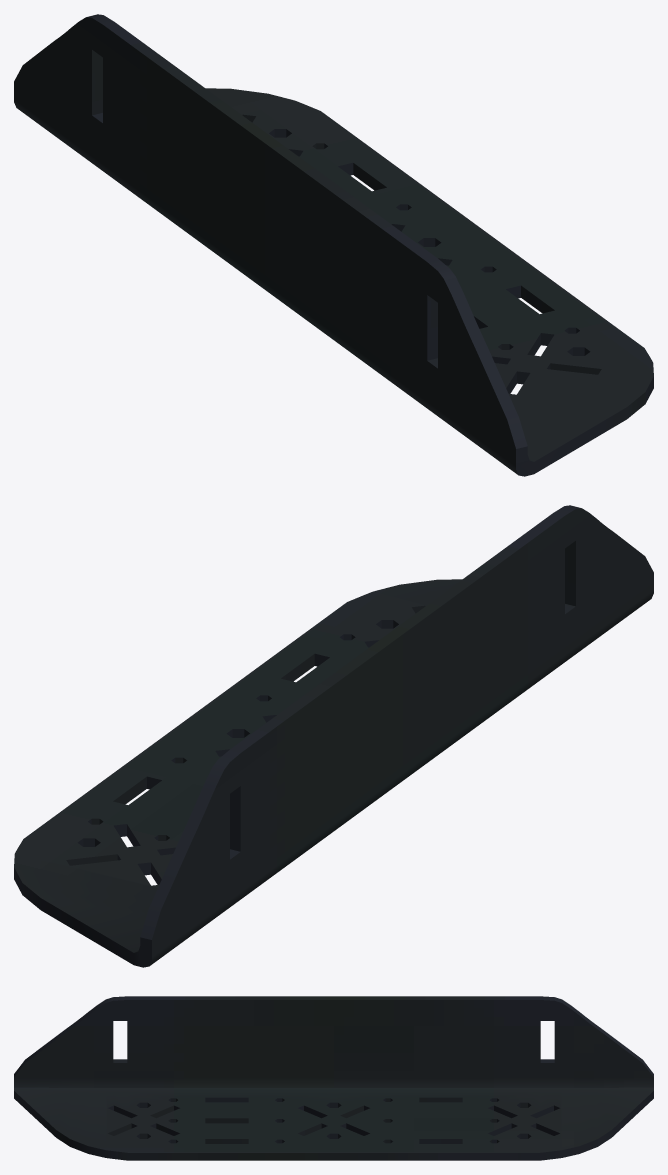
File: blueboat_payload_bracket.visual.glb
3 views of the same model, one above another, from view 1: azimuth 30°, elevation 25°; view 2: azimuth 150°, elevation 25°; view 3: azimuth 270°, elevation 25° (orthographic). The views are drawn at different scales.
Parts seen in each view (by area): view 1: blueboat_payload_bracket.visual.001; view 2: blueboat_payload_bracket.visual.001; view 3: blueboat_payload_bracket.visual.001.
Part boxes in pixels (x1,y1,x2,y2): blueboat_payload_bracket.visual.001: (14, 14, 653, 476); blueboat_payload_bracket.visual.001: (14, 505, 653, 967); blueboat_payload_bracket.visual.001: (14, 996, 653, 1160).
Bounding box in the file's own units: 0.0751 × 0.05 × 0.2999.
1 material, 1 textured.
